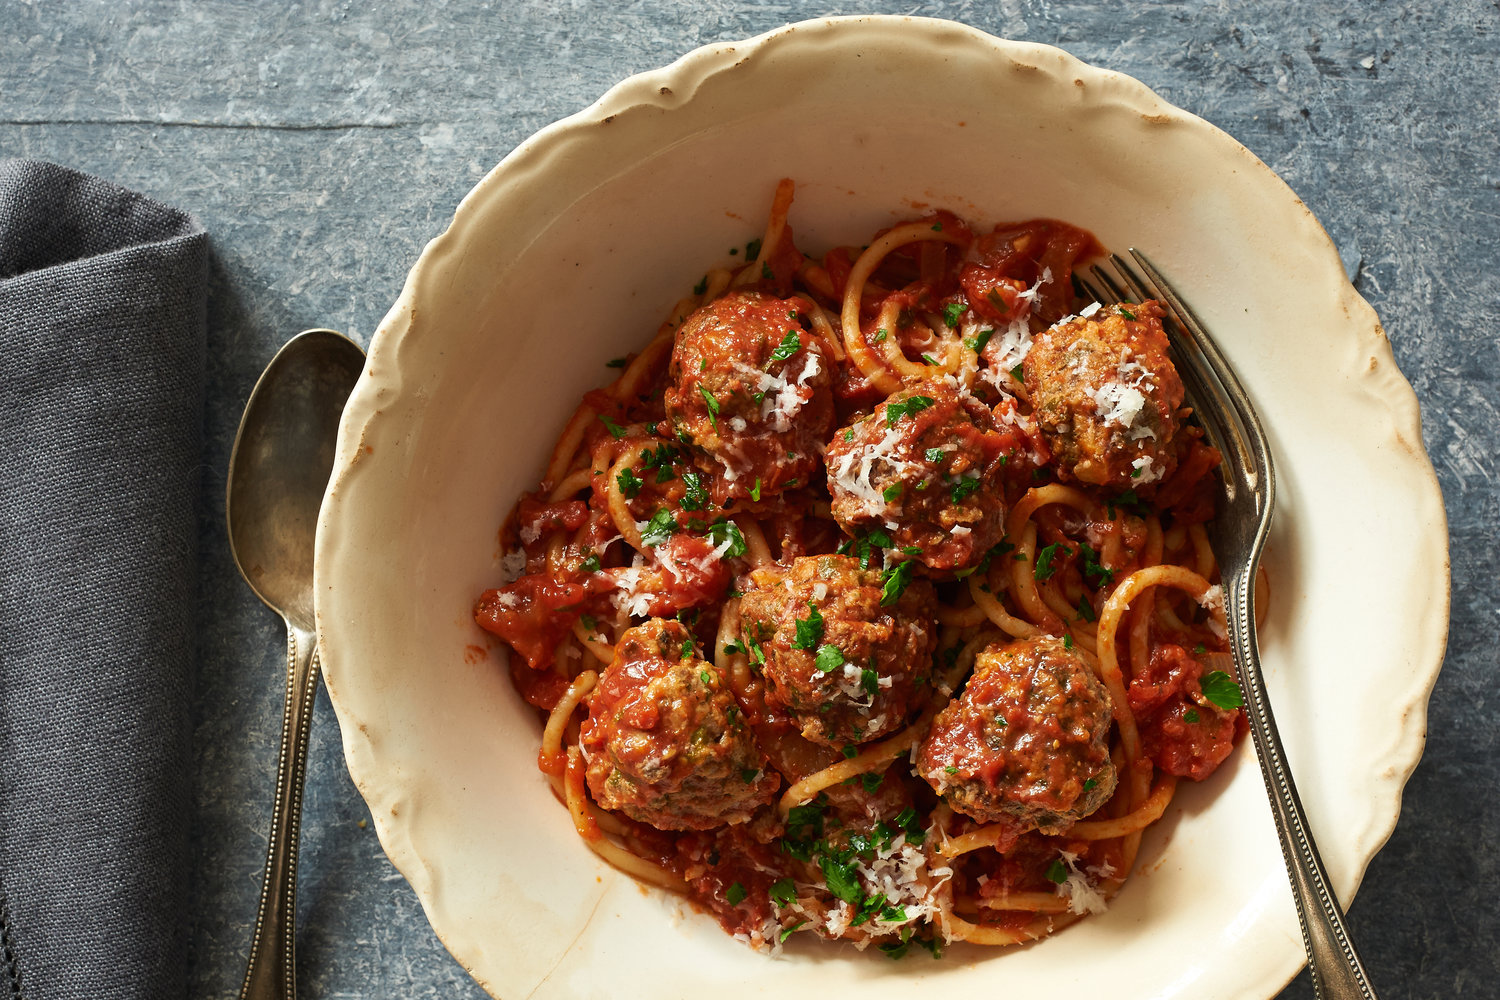meatballs: (622, 338, 1157, 838)
